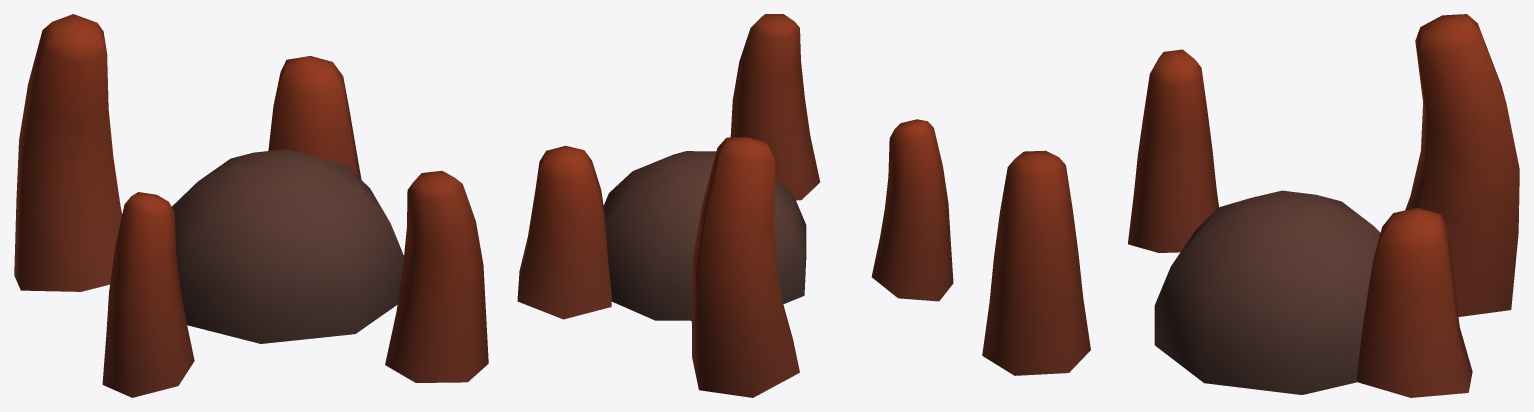
File: Grass_002.glb
3 views of the same model, side by side, from view 1: azimuth 30°, elevation 25°; view 2: azimuth 150°, elevation 25°; view 3: azimuth 270°, elevation 25° (orthographic). The views are drawn at different scales.
Visible parts, largest first — view 1: Grass_002; view 2: Grass_002; view 3: Grass_002.
Part boxes in pixels (x1,y1,x2,y2): Grass_002: (14,14,488,397); Grass_002: (517,14,953,397); Grass_002: (982,14,1519,397).
Bounding box in the file's own units: 1.05 × 0.7286 × 1.27.
Materials: 1 (1 with a texture image).
